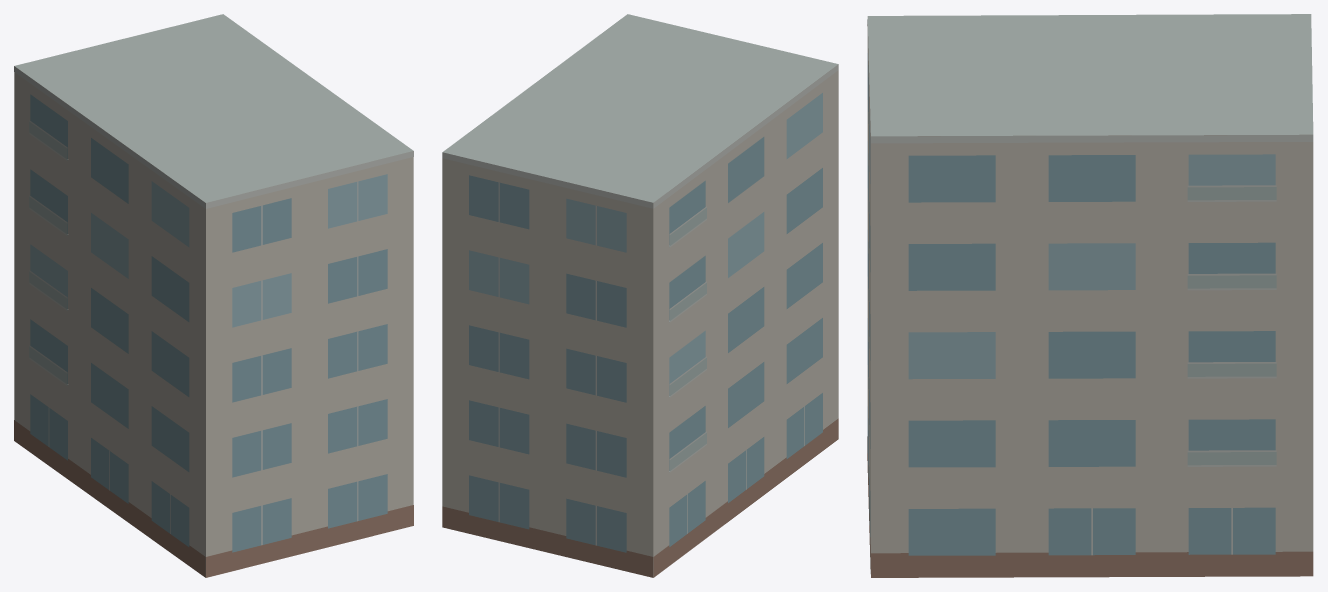
File: survey-upis-32890370.glb
The picture shows the model from 3 angles, left to right: view 1: azimuth 30°, elevation 25°; view 2: azimuth 150°, elevation 25°; view 3: azimuth 270°, elevation 25°; orthographic projection. The views are drawn at different scales.
Visible parts, largest first — view 1: survey-upis-32890370.tmp; view 2: survey-upis-32890370.tmp; view 3: survey-upis-32890370.tmp.
Part boxes in pixels (<box>): survey-upis-32890370.tmp: <box>14,14,413,577</box>; survey-upis-32890370.tmp: <box>442,14,838,577</box>; survey-upis-32890370.tmp: <box>867,14,1313,577</box>.
Bounding box in the file's own units: 9.06 × 15.2 × 13.92.
